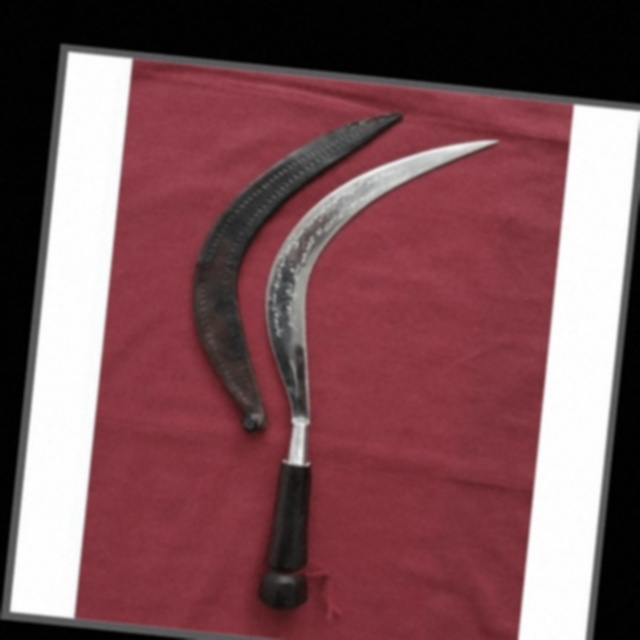Sharp-Object: (229, 78, 503, 635)
